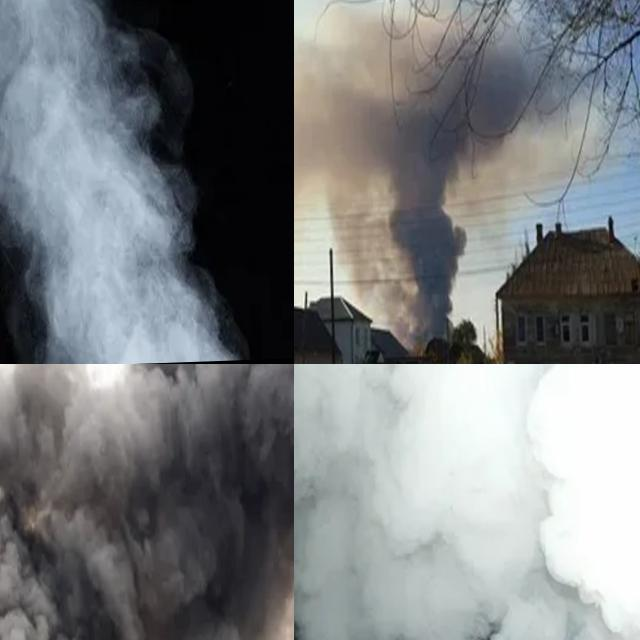smoke: (294, 364, 640, 640), (0, 0, 243, 364), (0, 364, 294, 640), (350, 16, 528, 350)
